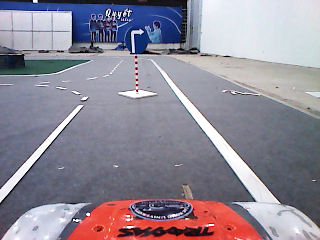turn: (122, 25, 149, 55)
